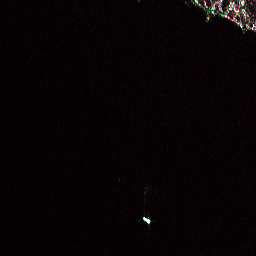ship: (140, 213, 153, 226)
